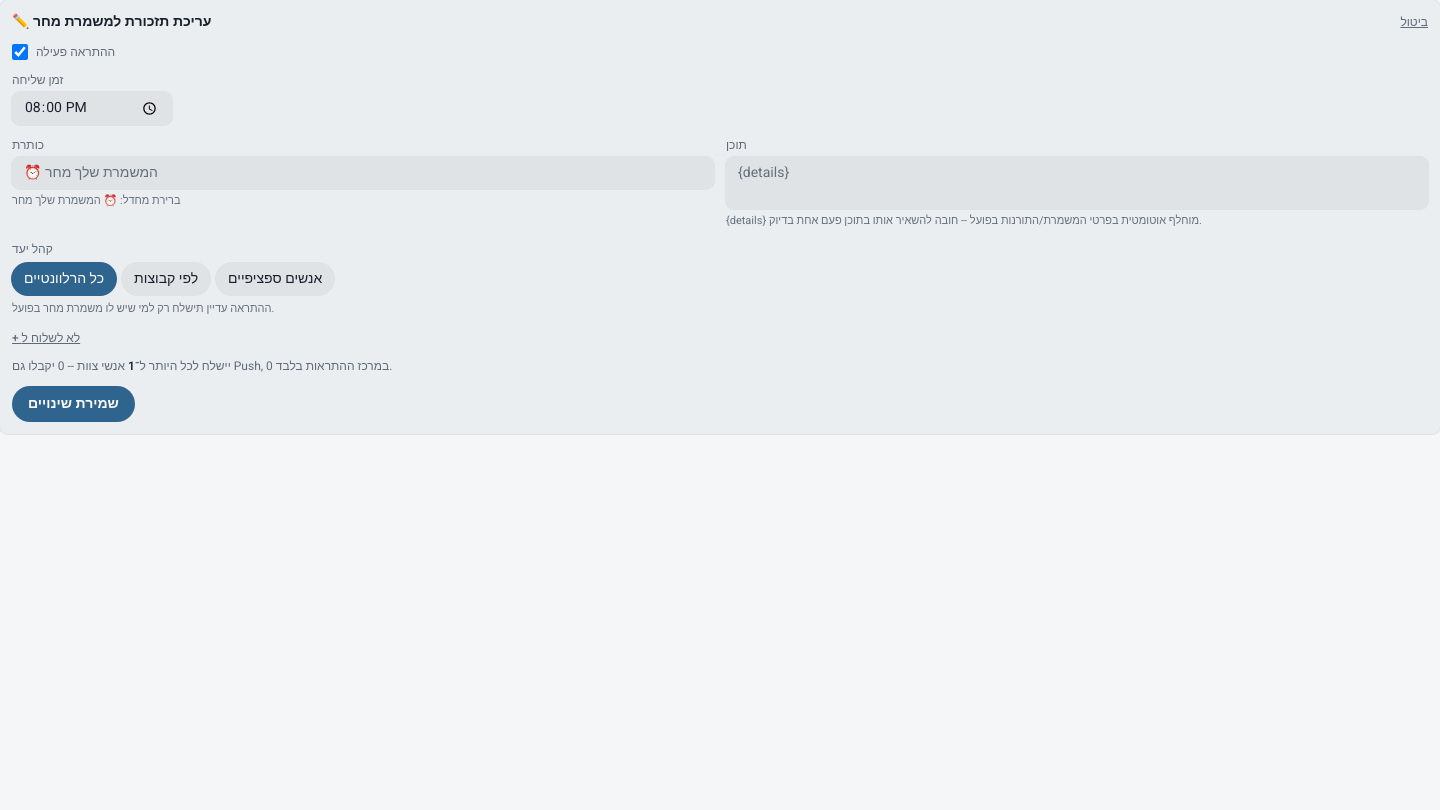
Scenario: ManagerSystemRuleEditor -- 'לא לשלוח ל' expand/collapse toggle › starts collapsed; clicking the toggle expands it and shows the picker
Click the button "+ לא לשלוח ל": coordinates (46, 338) [12,330,80,346]
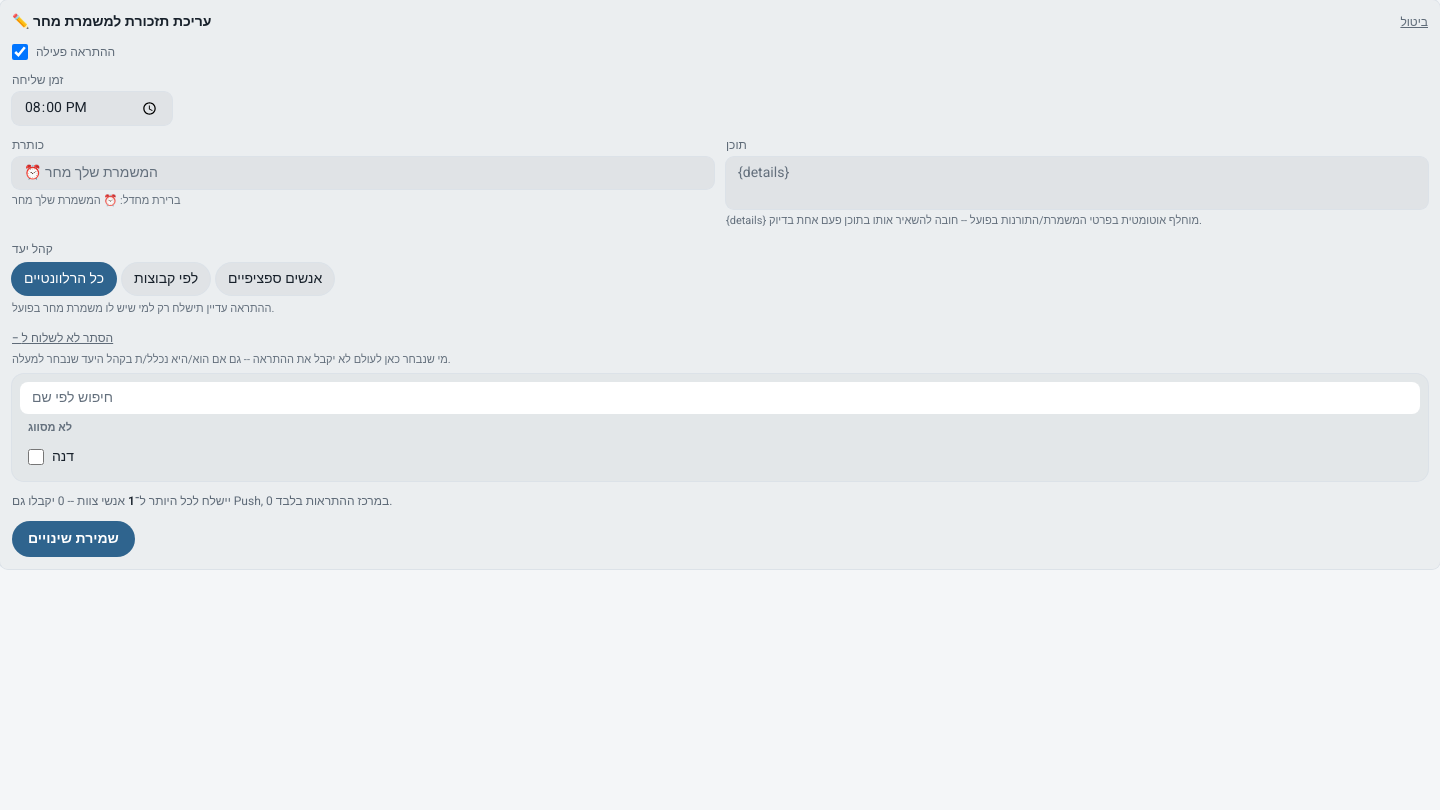
Result: the button "− הסתר לא לשלוח ל" is shown at [12,330,113,346]
Result: the search field named "חיפוש איש/אשת צוות" is shown at [20,382,1420,414]
